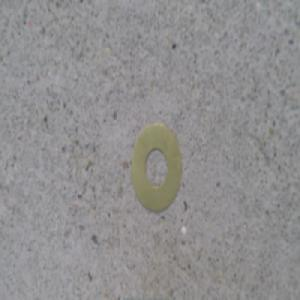Washer: (132, 119, 186, 216)
